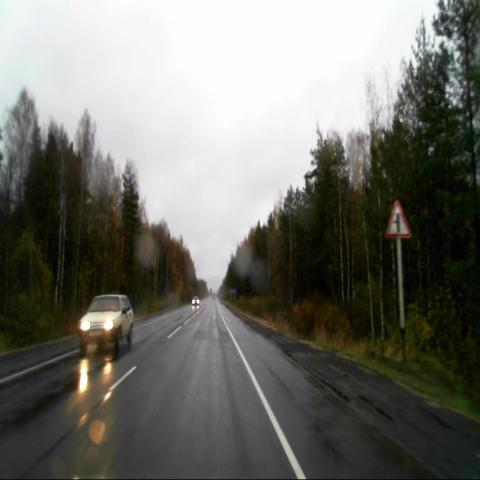2_3_3: (385, 200, 412, 239)
